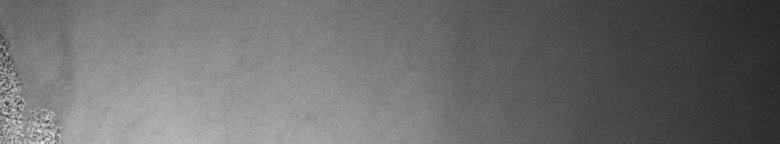hc: (4, 36, 62, 136)
